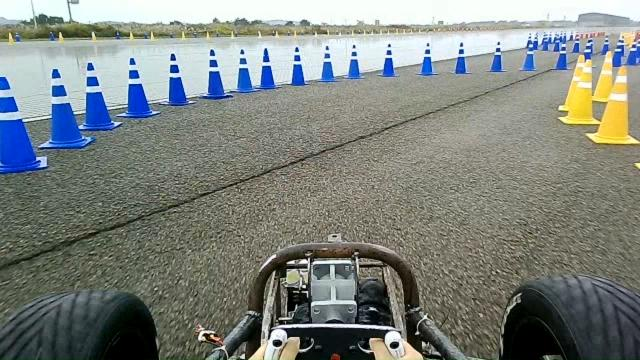blue cone: (0, 75, 48, 173), (38, 68, 96, 149), (77, 61, 123, 131), (116, 57, 160, 118), (158, 53, 196, 106), (199, 48, 233, 100), (229, 48, 259, 93), (254, 47, 280, 89), (342, 44, 366, 79), (289, 46, 309, 86), (316, 45, 337, 82), (415, 42, 438, 75), (377, 43, 399, 77), (486, 41, 507, 73), (452, 42, 472, 74), (519, 42, 537, 74)
yellow cone: (585, 65, 638, 145), (558, 59, 599, 127), (556, 54, 595, 113), (590, 50, 620, 105)
